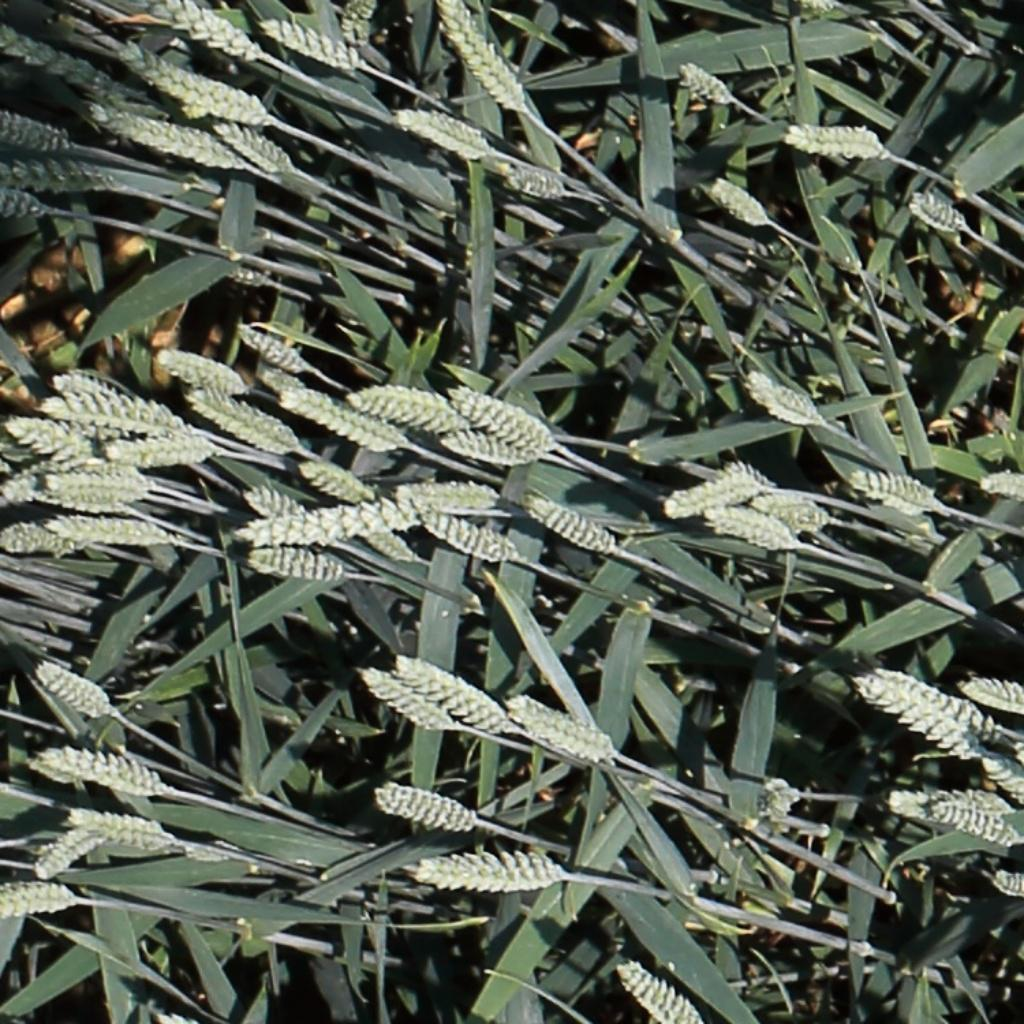0-0: (0, 6, 169, 131), (842, 673, 1000, 771), (120, 47, 286, 131), (228, 499, 473, 550), (90, 105, 261, 178), (494, 685, 626, 763), (871, 660, 1008, 735), (438, 2, 522, 116), (403, 846, 571, 900), (397, 656, 512, 733), (659, 456, 781, 527), (279, 389, 407, 455), (36, 394, 209, 442), (881, 782, 1017, 843), (184, 390, 308, 456), (447, 385, 559, 453), (21, 745, 168, 795), (350, 379, 469, 437), (256, 17, 370, 75), (0, 155, 137, 203), (0, 455, 136, 503), (615, 961, 716, 1024), (211, 118, 310, 181), (374, 780, 481, 837), (20, 480, 150, 526), (357, 667, 447, 733), (157, 0, 258, 58), (38, 361, 153, 411), (59, 810, 180, 856), (703, 507, 815, 555), (415, 509, 517, 561), (522, 496, 613, 554), (391, 107, 490, 159), (31, 514, 182, 548), (5, 416, 103, 468), (230, 322, 319, 377), (780, 120, 890, 163), (97, 441, 221, 479), (34, 663, 117, 719), (847, 471, 949, 516), (391, 478, 514, 513), (742, 371, 821, 425), (245, 549, 353, 587), (150, 348, 245, 391), (441, 434, 541, 473), (31, 828, 103, 882), (294, 457, 380, 502), (925, 805, 1019, 846), (1, 110, 83, 157), (0, 880, 86, 923), (0, 520, 99, 555), (705, 177, 776, 225), (910, 193, 977, 238), (504, 166, 574, 209), (43, 469, 150, 497), (981, 759, 1024, 821), (353, 520, 413, 563), (750, 496, 827, 528), (675, 61, 733, 103), (959, 679, 1024, 715), (241, 487, 303, 520), (0, 188, 60, 221), (338, 0, 375, 50), (977, 467, 1024, 506), (989, 873, 1024, 898)
